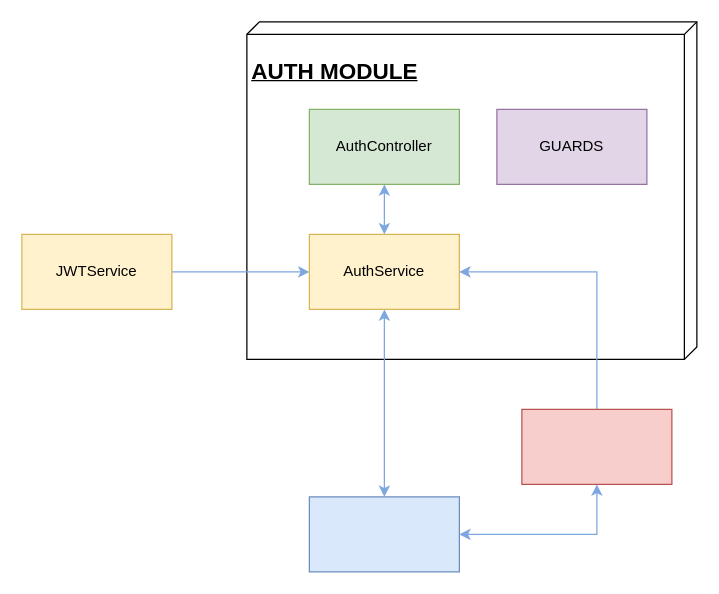
Some shapes in this 719 by 594 pixel diagram are drawn without their labels. The shapes that lost their labels are listed below. From the top down, each one's centre as x and y in pixels, then its label:
pixel 596 446: User Entity
pixel 383 534: UserRepository
